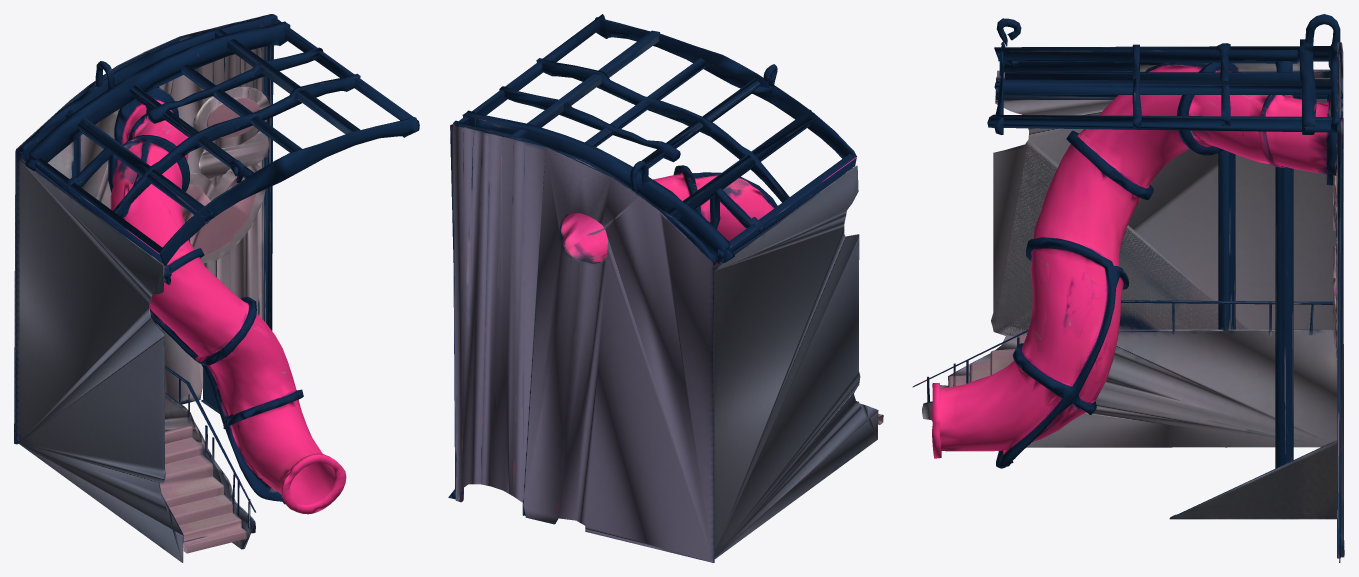
File: slide-v1-with-wall.fbx
The picture shows the model from 3 angles, left to right: view 1: azimuth 30°, elevation 25°; view 2: azimuth 150°, elevation 25°; view 3: azimuth 270°, elevation 25°; orthographic projection. The views are drawn at different scales.
Visible parts, largest first — view 1: Mesh_0; view 2: Mesh_0; view 3: Mesh_0.
Boxes of the visible parts, box(x1,y1,x2,y2) form: Mesh_0: box(14, 14, 419, 562); Mesh_0: box(448, 14, 883, 562); Mesh_0: box(912, 14, 1344, 562).
Bounding box in the file's own units: 71.63 × 95.17 × 83.79.
1 material, 1 textured.
